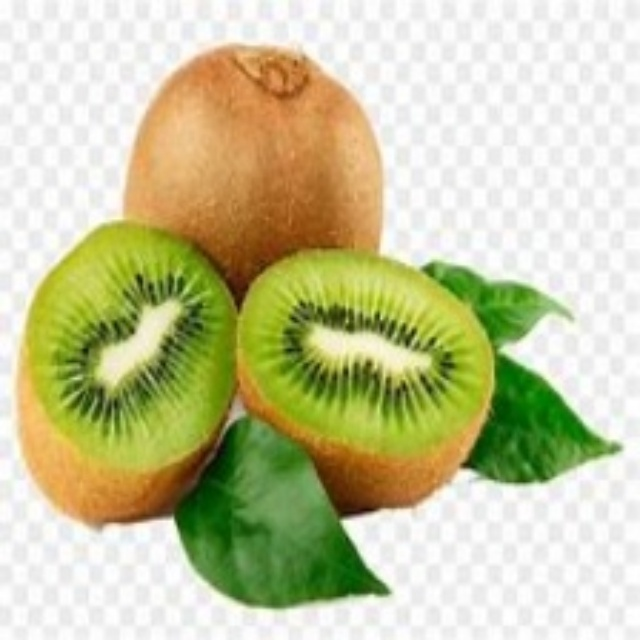kiwi: (18, 222, 244, 532), (236, 251, 493, 511), (131, 38, 381, 289)
